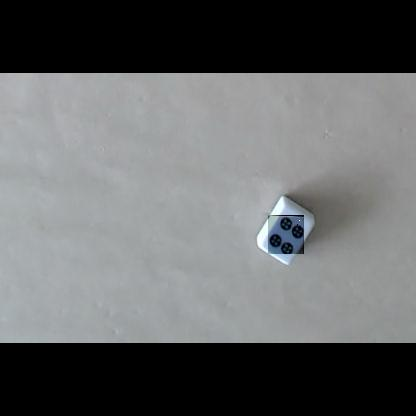4p: (268, 215, 304, 254)
